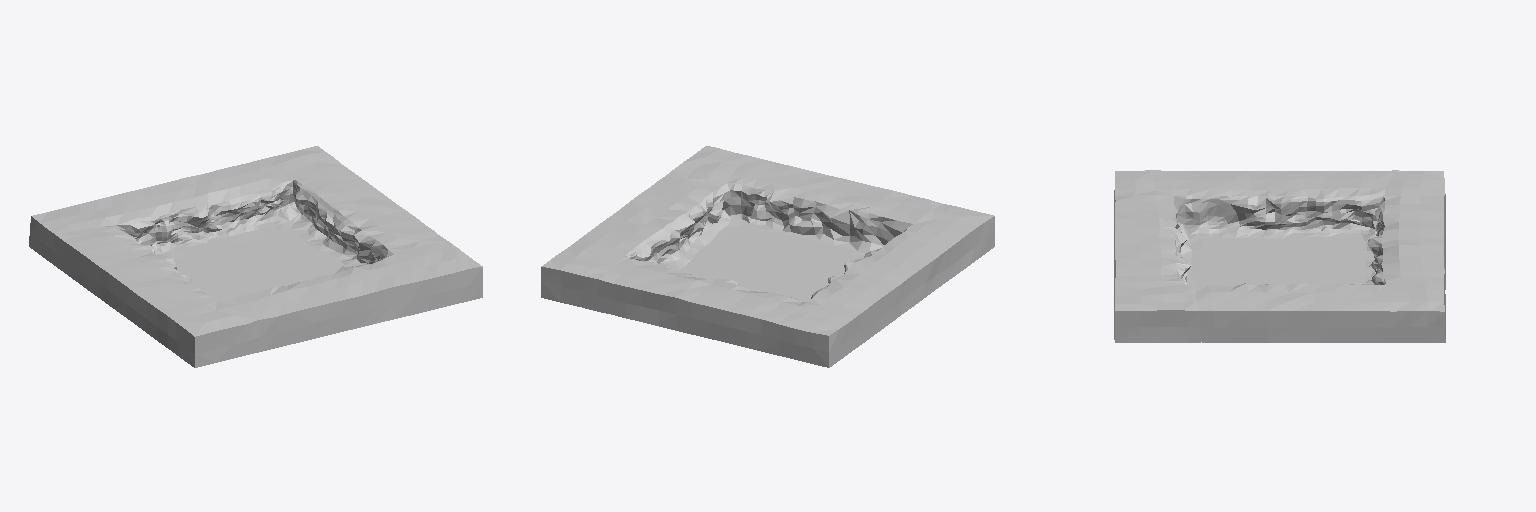
The model's file is Terrain_LowPoly.obj.
3 views of the same model, side by side, from view 1: azimuth 30°, elevation 25°; view 2: azimuth 150°, elevation 25°; view 3: azimuth 270°, elevation 25° (orthographic).
Visible parts, largest first — view 1: headusOBJexport; view 2: headusOBJexport; view 3: headusOBJexport.
Part boxes in pixels (left/top/right/bottom): headusOBJexport: left=29, top=146, right=482, bottom=367; headusOBJexport: left=541, top=146, right=994, bottom=367; headusOBJexport: left=1114, top=170, right=1445, bottom=342.
Bounding box in the file's own units: 584 × 65.25 × 581.